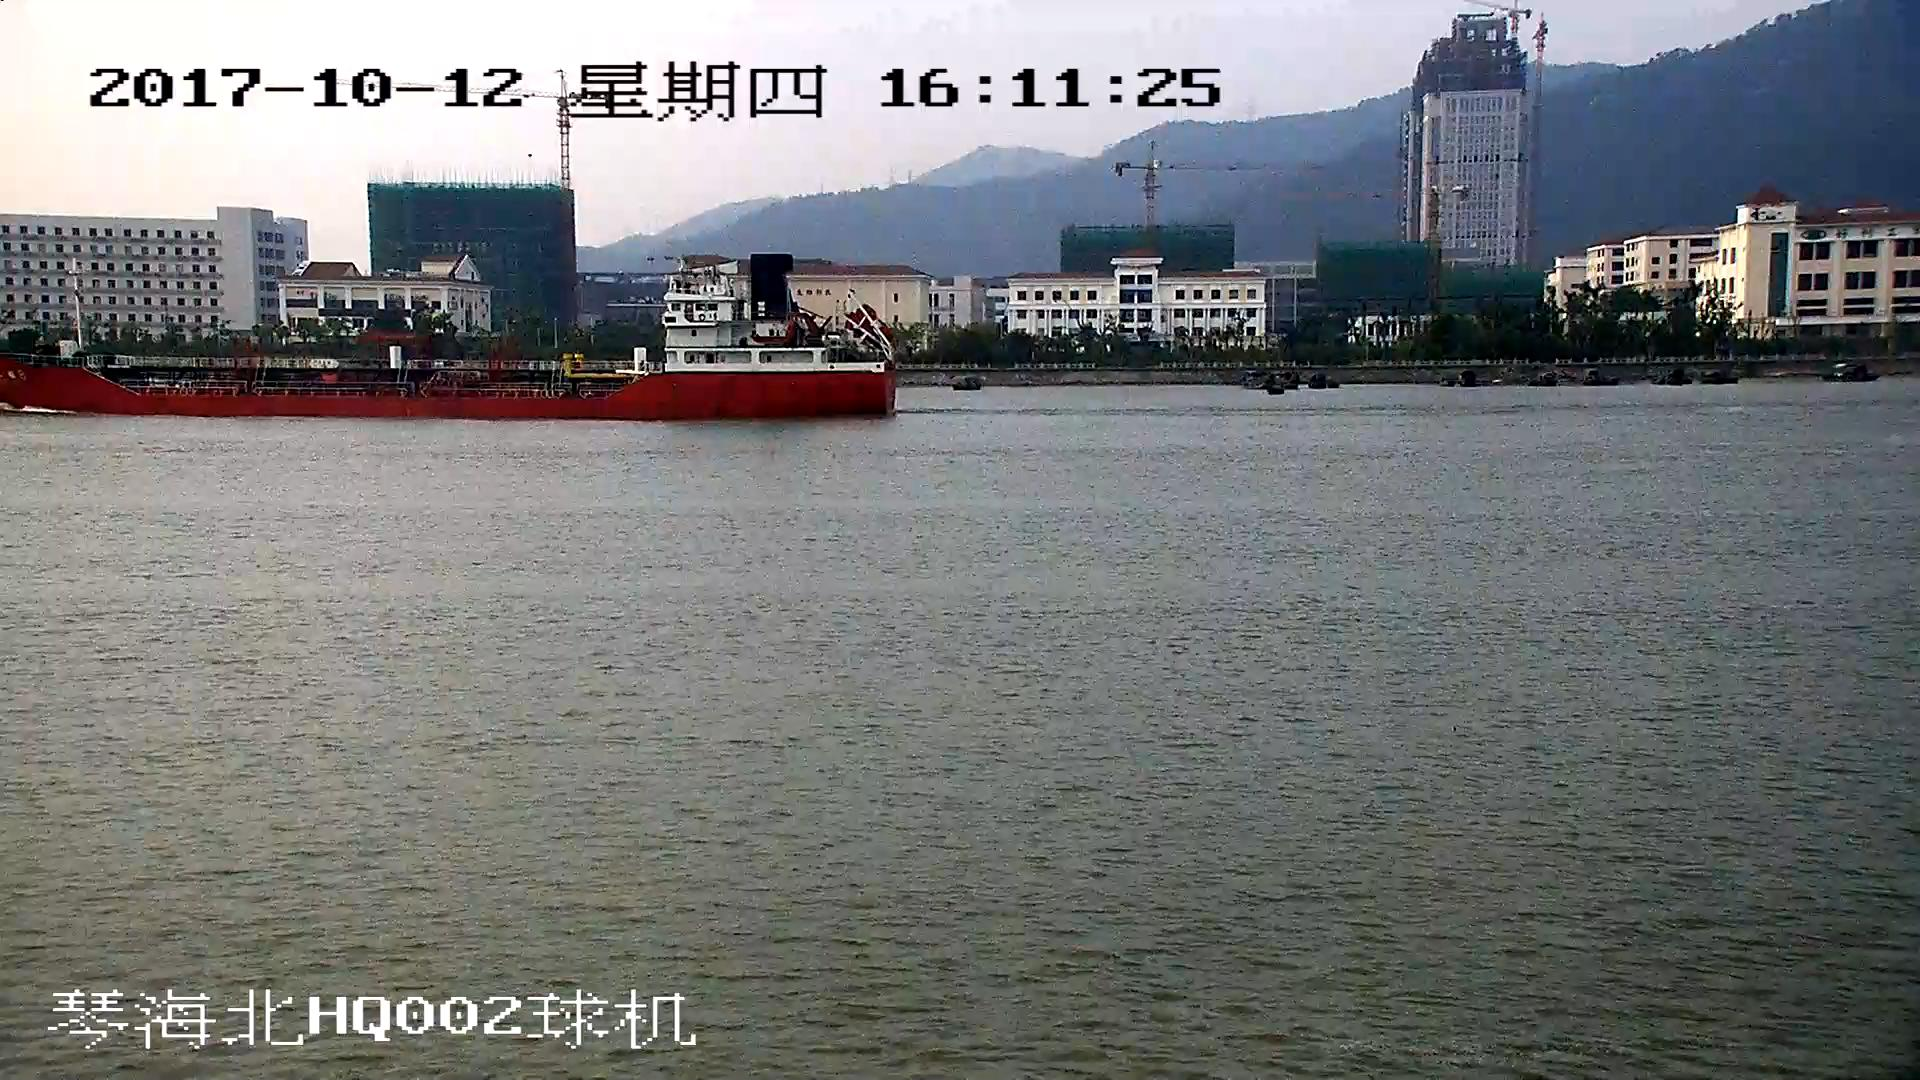general cargo ship: (1, 259, 897, 423)
